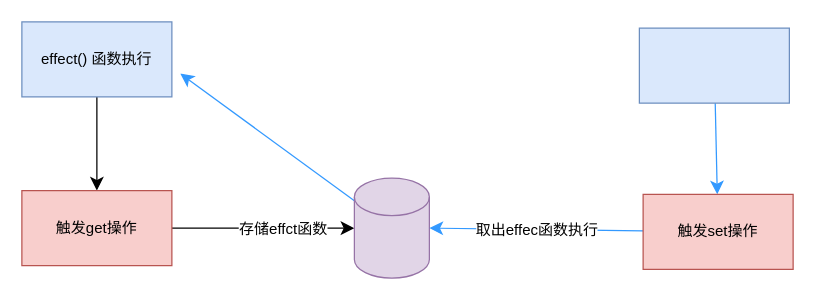
This 815x300 diagram has some shape labels left out. The box of each missing label's shape, as (x1, y1, x2, y2) in pixels:
effect(): (353, 177, 429, 278)
响应式数据改变: (638, 27, 789, 103)
